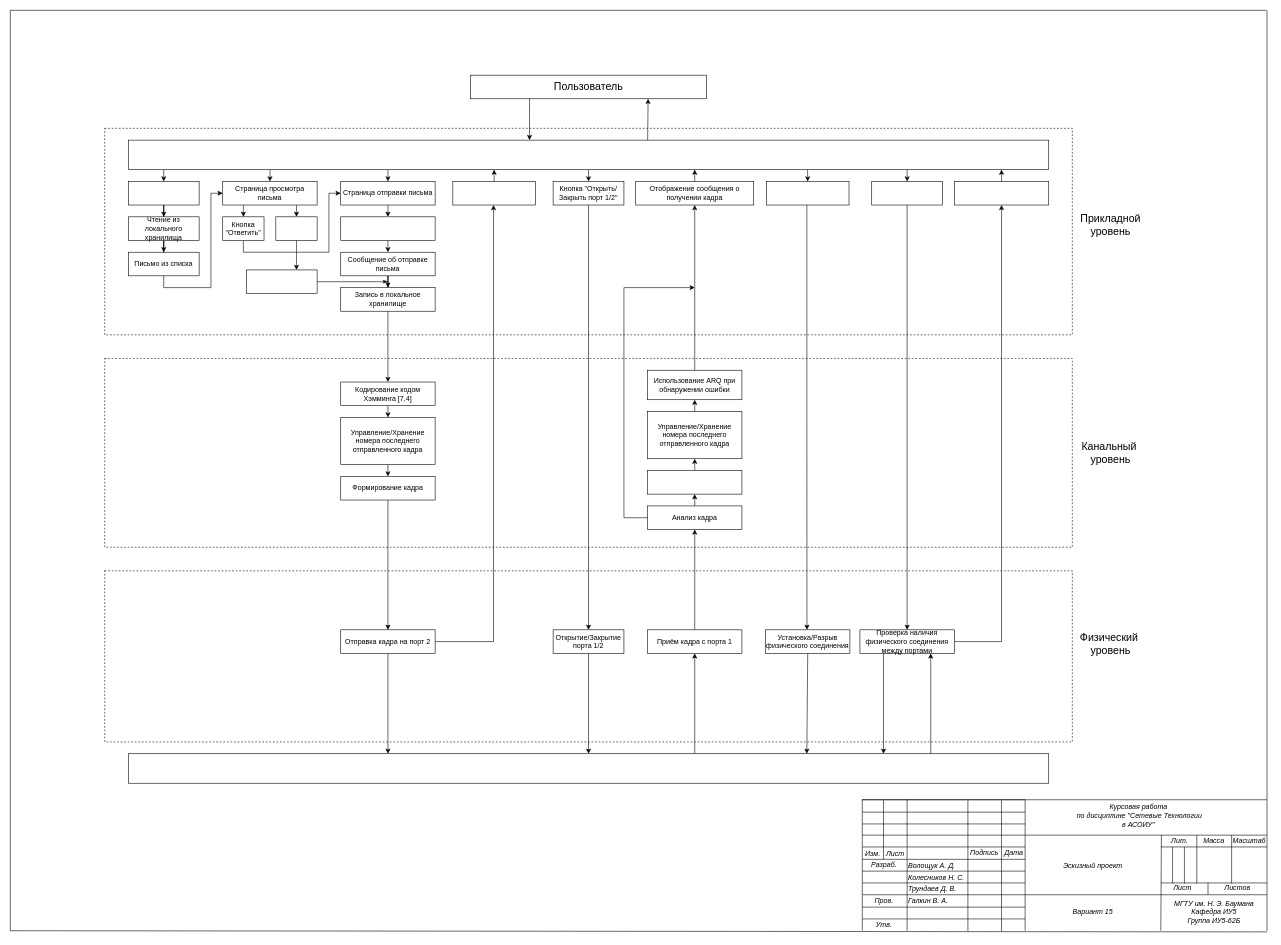
This 1281x945 diagram has some shape labels left out. Each missing label, with the centre of its shape:
Аппаратное обеспечение: point (588, 768)
Декодирование кадра: point (694, 482)
Кнопка "Отправить": point (387, 228)
Кнопка "Переслать": point (296, 228)
Кнопка "Проверить соединение портов": point (907, 193)
Кнопка "Установить/Разорвать соединение": point (807, 193)
Отображение сообщения о состоянии физического соединения: point (1001, 193)
Отображение сообщения об отправке кадра: point (493, 193)
Пользовательский интерфейс: point (588, 155)
Сообщение о переадресации письма: point (281, 281)
Страница просмотра всех писем: point (163, 193)
